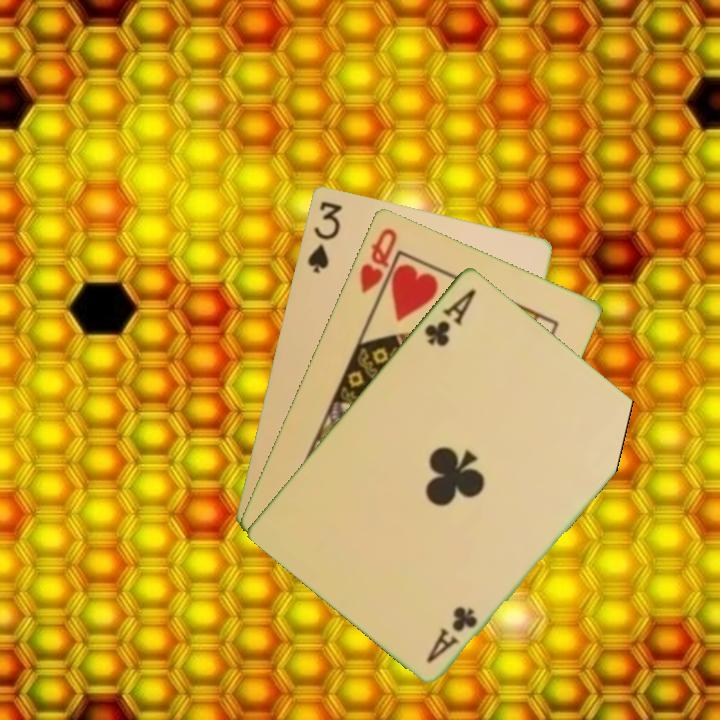3s: (303, 197, 344, 276)
Ac: (420, 284, 479, 349), (422, 601, 481, 666)
Qh: (355, 224, 400, 296)
